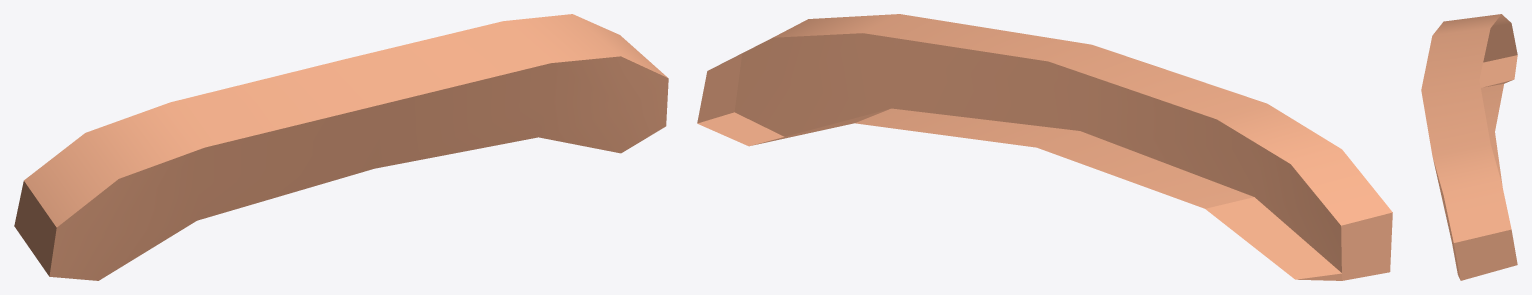
Rendered from lips_5.fbx.
3 renders of one model, left to right at view 1: azimuth 30°, elevation 25°; view 2: azimuth 150°, elevation 25°; view 3: azimuth 270°, elevation 25°, orthographic. The views are drawn at different scales.
Parts seen in each view (by area): view 1: lips_5; view 2: lips_5; view 3: lips_5.
Part boxes in pixels (x1,y1,x2,y2): lips_5: (14, 14, 668, 280); lips_5: (697, 14, 1392, 280); lips_5: (1421, 14, 1517, 280).
Size of the model in its own units: 8.32 by 1.89 by 1.59.
